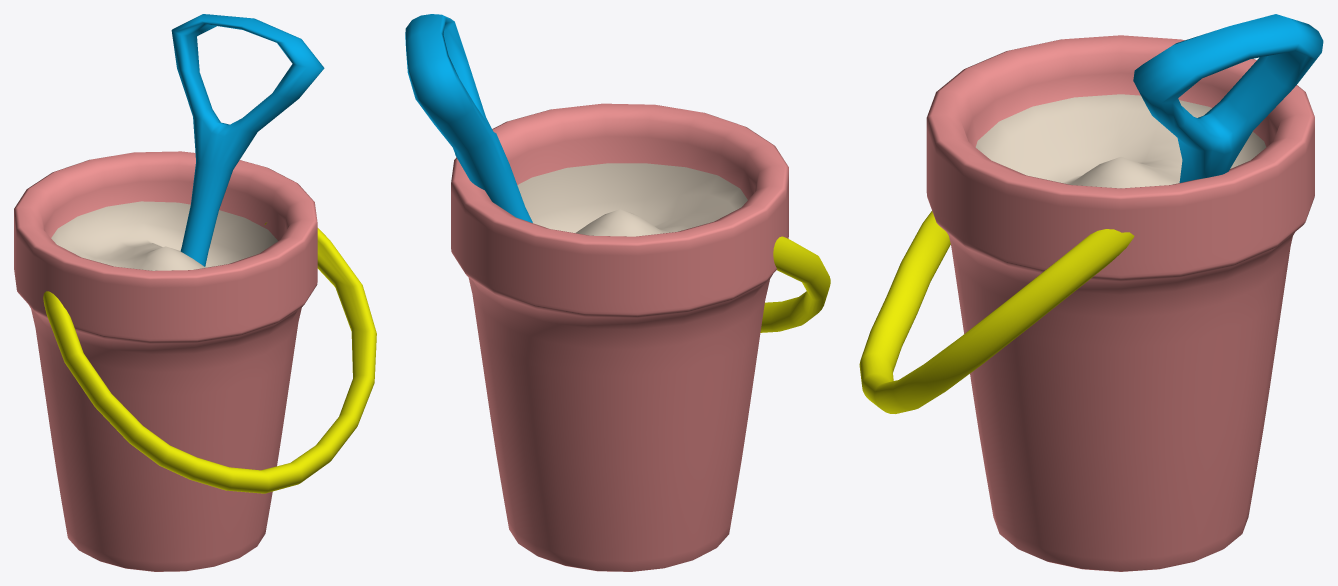
Rendered from bucket.fbx.
3 views of the same model, side by side, from view 1: azimuth 30°, elevation 25°; view 2: azimuth 150°, elevation 25°; view 3: azimuth 270°, elevation 25° (orthographic). The views are drawn at different scales.
Visible parts, largest first — view 1: polySurface39; view 2: polySurface39; view 3: polySurface39.
Part boxes in pixels (x1,y1,x2,y2): polySurface39: (14,14,376,571); polySurface39: (405,14,830,571); polySurface39: (859,14,1323,571).
Size of the model in its own units: 10.11 by 13.91 by 10.28.
